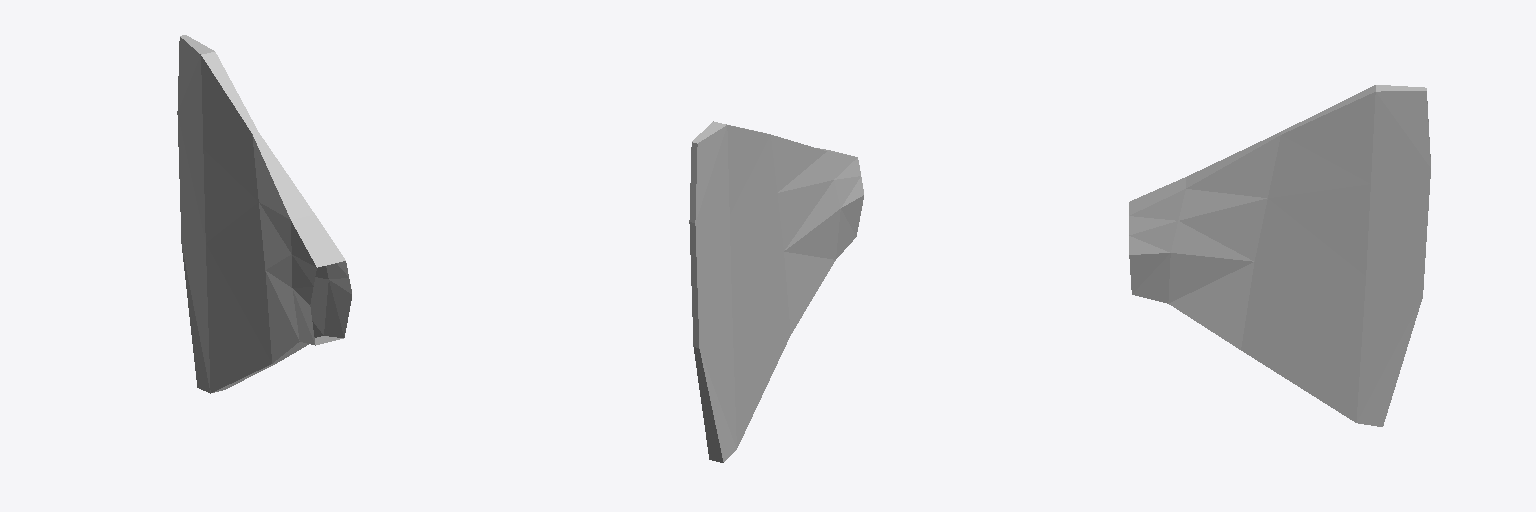
The model's file is colaPez1.obj.
3 renders of one model, left to right at view 1: azimuth 30°, elevation 25°; view 2: azimuth 150°, elevation 25°; view 3: azimuth 270°, elevation 25°, orthographic.
Parts seen in each view (by area): view 1: colaPez1:TropicalFish01; view 2: colaPez1:TropicalFish01; view 3: colaPez1:TropicalFish01.
Boxes of the visible parts, x1,y1,x2,y2 form: colaPez1:TropicalFish01: [177, 35, 351, 393]; colaPez1:TropicalFish01: [689, 121, 863, 462]; colaPez1:TropicalFish01: [1129, 85, 1430, 426].
Size of the model in its own units: 0.093 by 0.7053 by 0.5755.